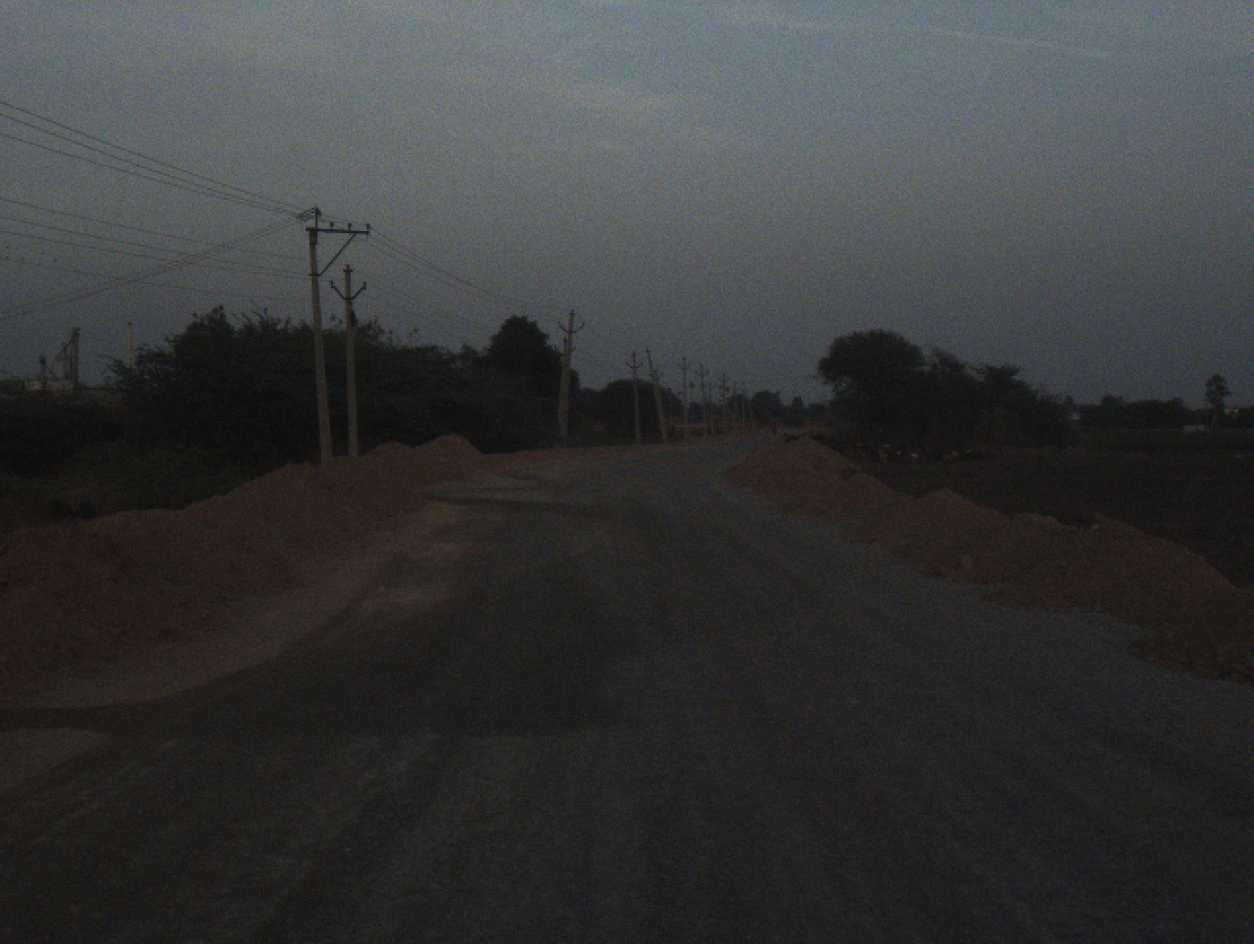animal: (843, 436, 894, 457), (899, 446, 944, 463), (949, 444, 981, 465), (826, 426, 837, 442)
person: (767, 402, 787, 442)
